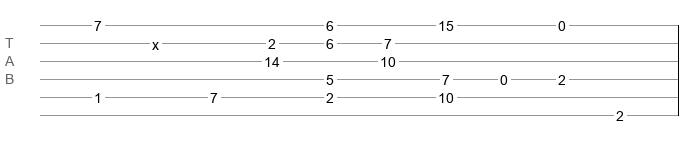0: (500, 72, 508, 82), (558, 18, 566, 28)
1: (94, 90, 102, 100)
10: (380, 54, 396, 64), (438, 90, 454, 100)
14: (264, 54, 280, 64)
15: (438, 18, 454, 28)
2: (268, 36, 276, 46), (326, 90, 334, 100), (558, 72, 566, 82), (616, 108, 624, 118)
5: (326, 72, 334, 82)
6: (326, 36, 334, 46), (326, 18, 334, 28)
7: (94, 18, 102, 28), (210, 90, 218, 100), (384, 36, 392, 46), (442, 72, 450, 82)
x: (152, 37, 159, 45)
